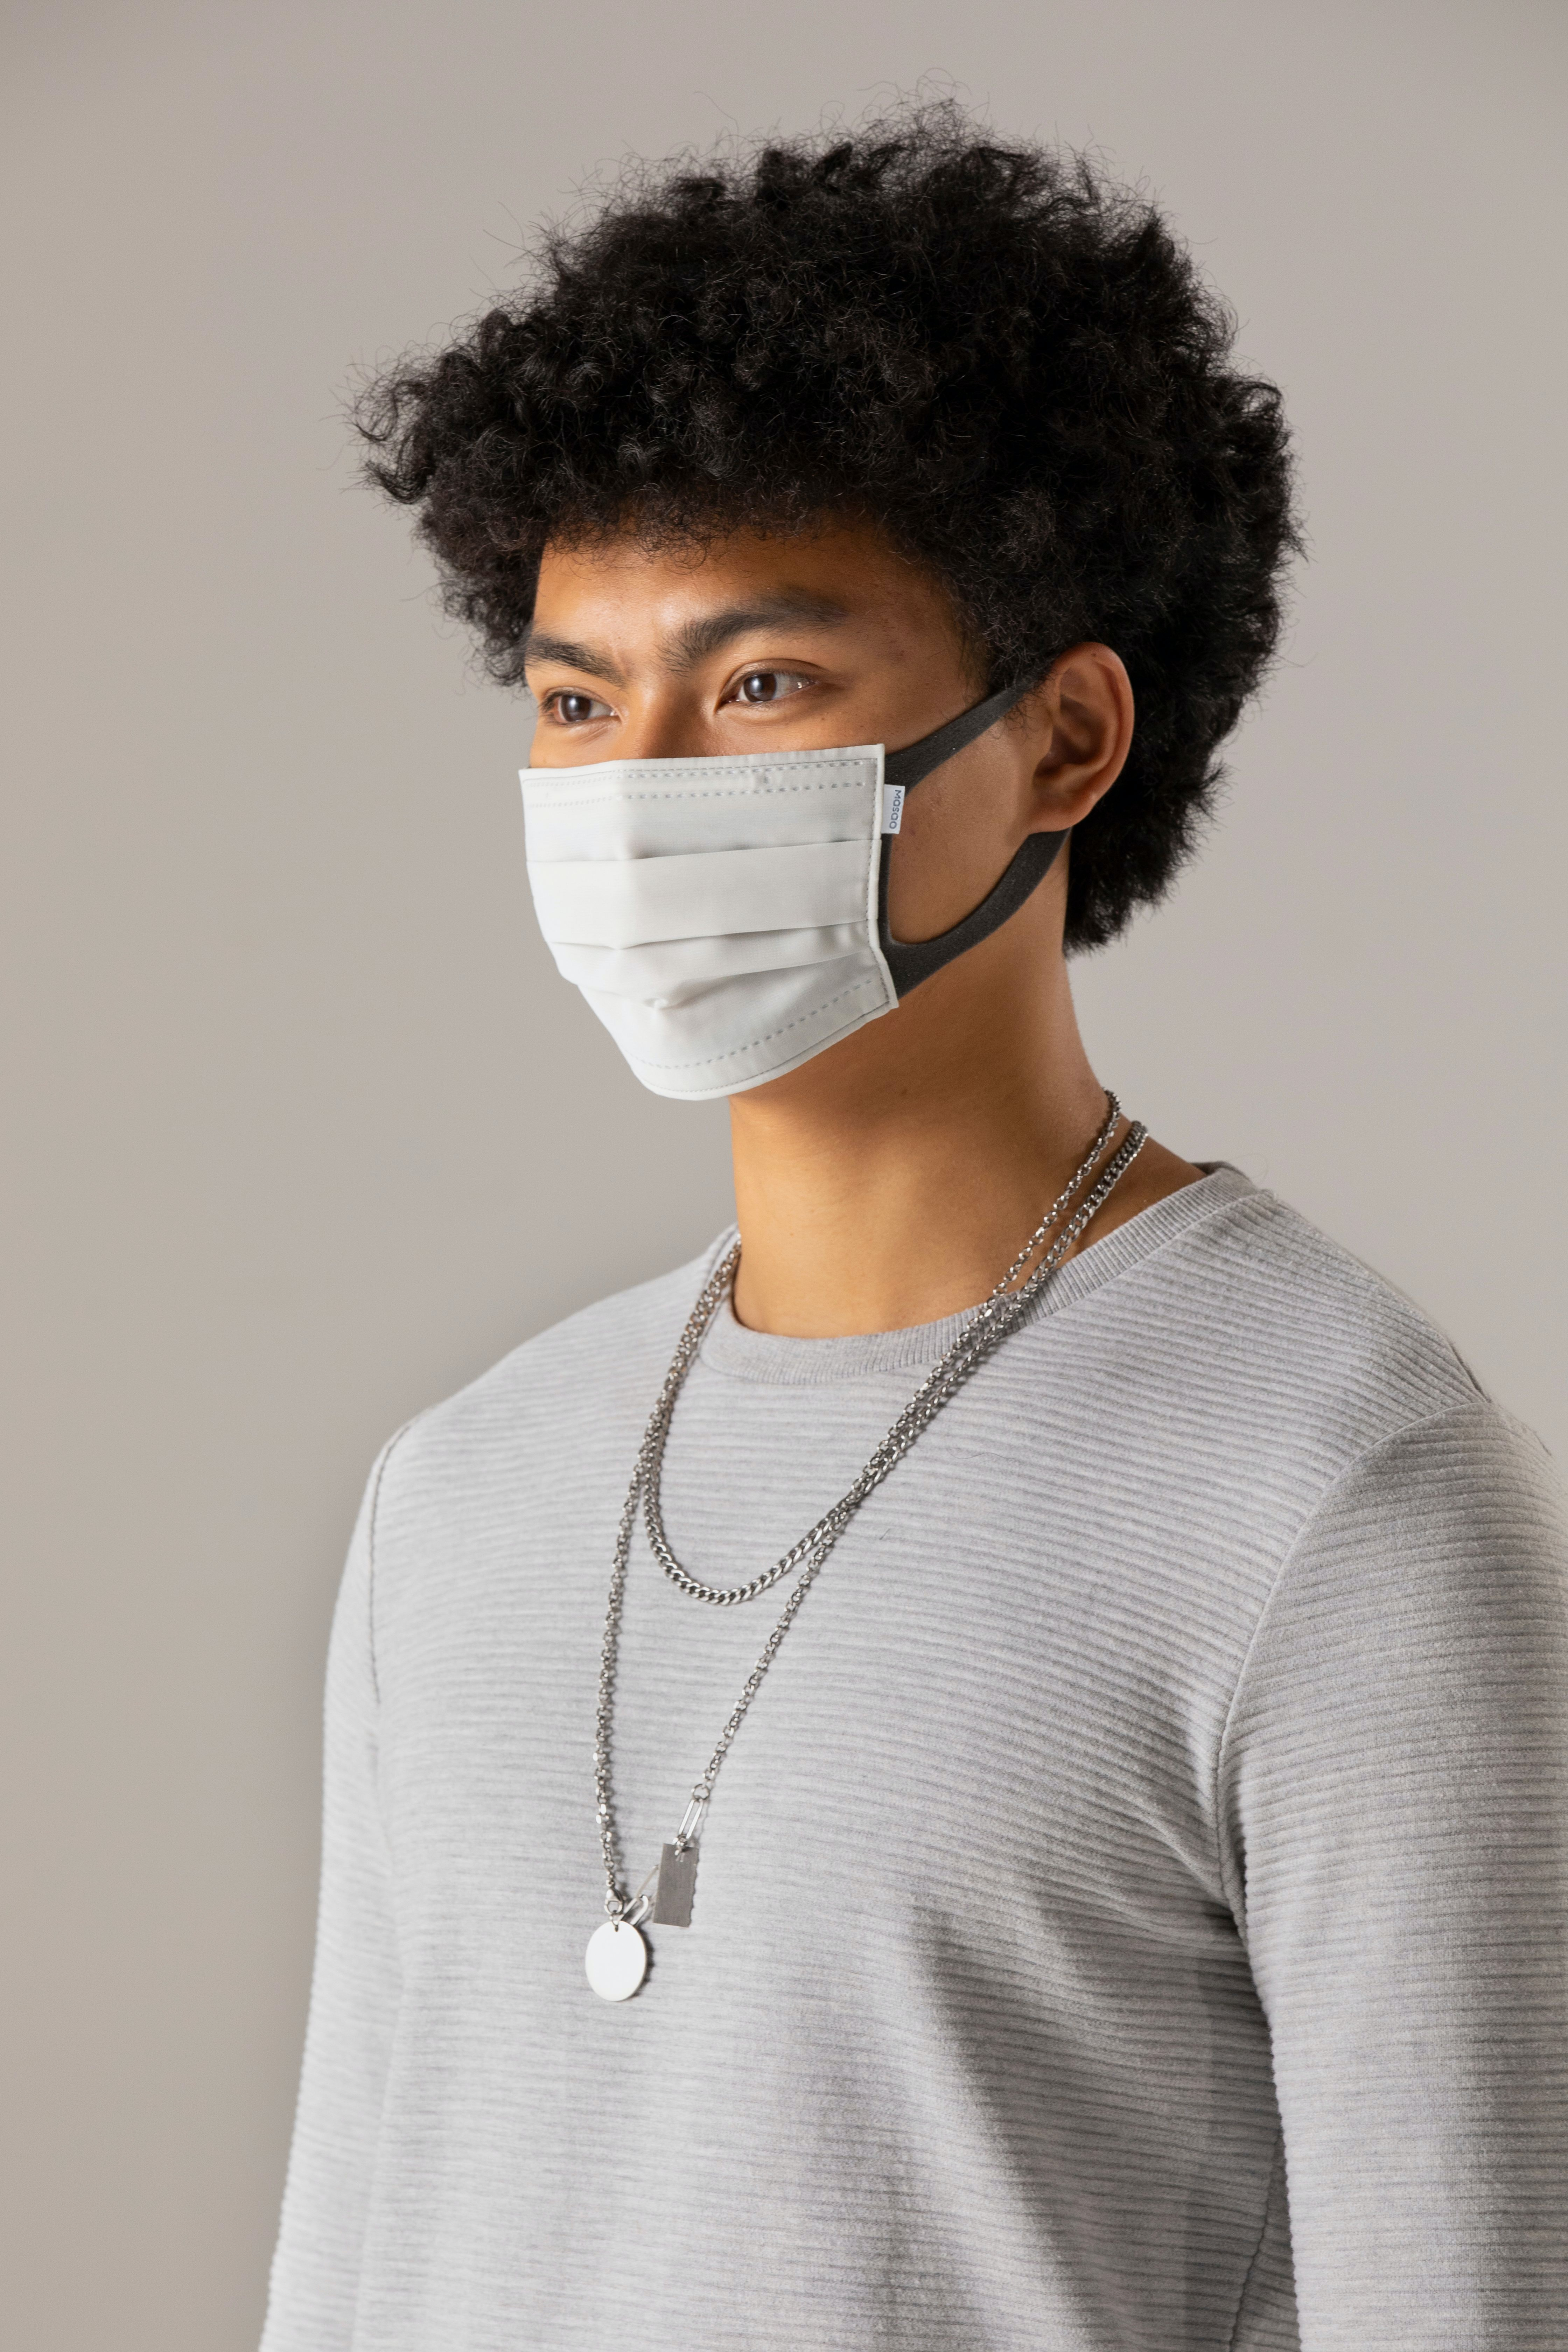mask: (501, 747, 1013, 1107)
person: (210, 159, 1567, 2345)
